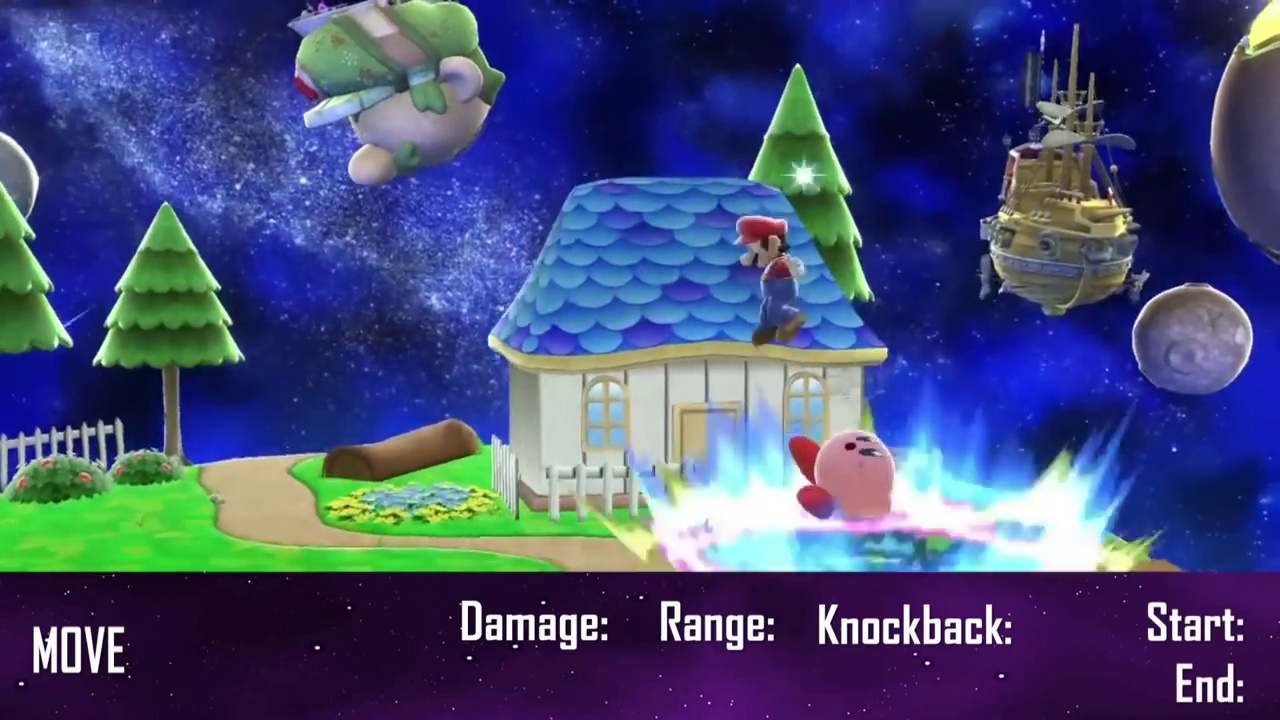Mario: (734, 217, 808, 348)
